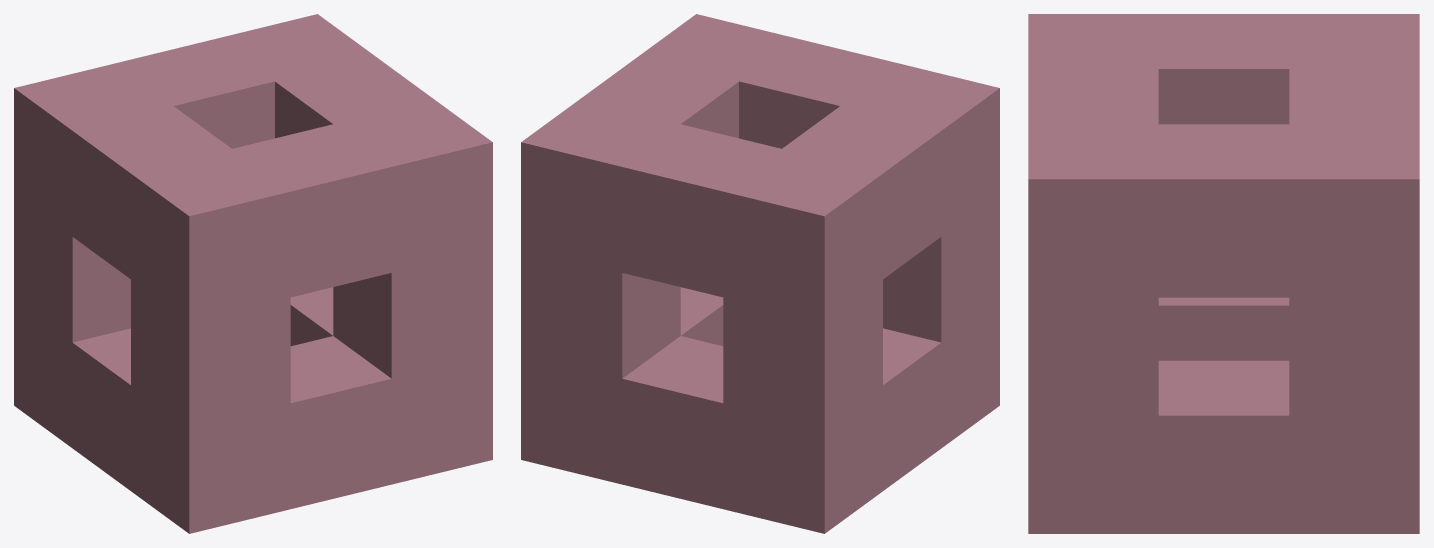
The model's file is Sponge.gltf.
The picture shows the model from 3 angles, left to right: view 1: azimuth 30°, elevation 25°; view 2: azimuth 150°, elevation 25°; view 3: azimuth 270°, elevation 25°; orthographic projection. The views are drawn at different scales.
Visible parts, largest first — view 1: Sponge; view 2: Sponge; view 3: Sponge.
Part boxes in pixels (x1,y1,x2,y2): Sponge: (14,14,492,533); Sponge: (521,14,999,533); Sponge: (1028,14,1419,533).
Size of the model in its own units: 2 by 2 by 2.
